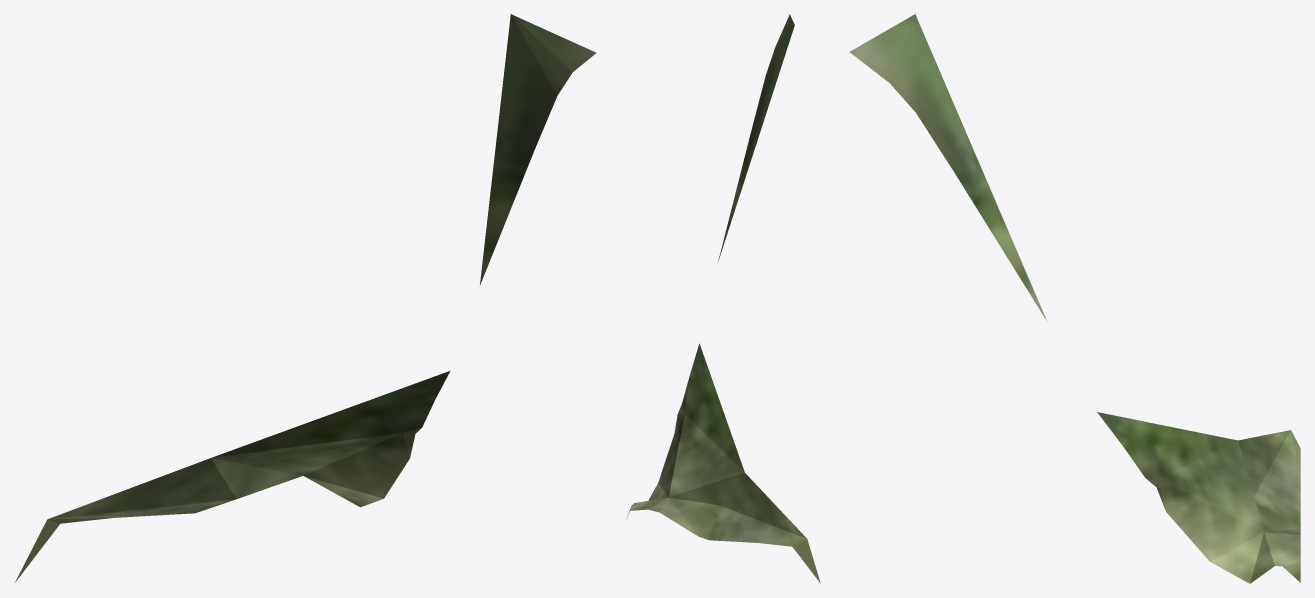
The picture shows the model from 3 angles, left to right: view 1: azimuth 30°, elevation 25°; view 2: azimuth 150°, elevation 25°; view 3: azimuth 270°, elevation 25°; orthographic projection. The views are drawn at different scales.
Bounding box in the file's own units: 16.87 × 34.17 × 24.58.
Materials: 1 (1 with a texture image).
